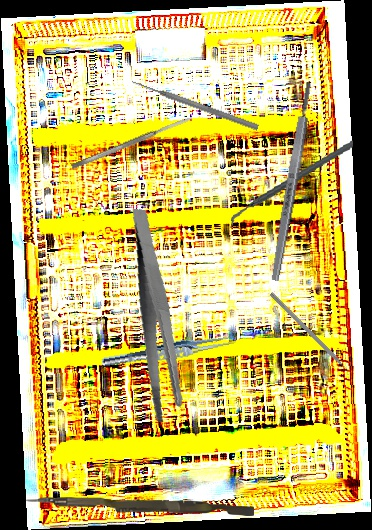Chopper: (220, 140, 363, 228), (265, 292, 355, 382)
Dressing Forceps: (106, 208, 206, 425)
Pusher: (130, 77, 260, 132), (25, 496, 255, 516)
Scalpel Handle: (268, 81, 316, 282)
Spatula Surgical: (70, 114, 194, 171)
Tissue Forceps: (100, 329, 238, 373)
